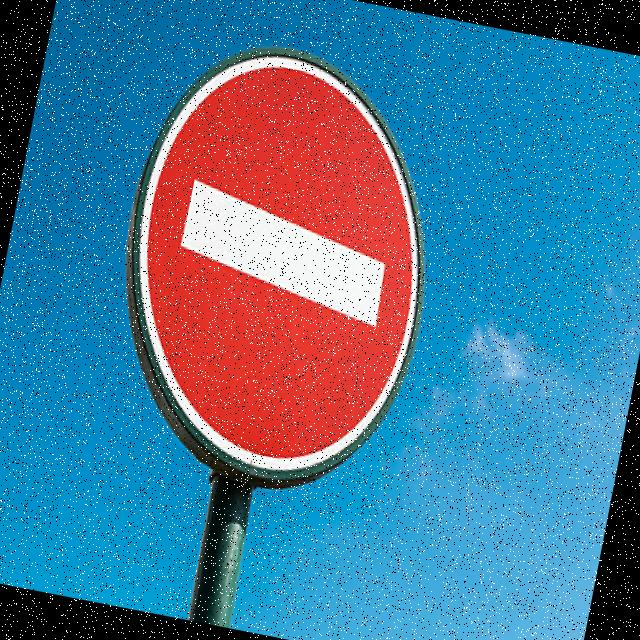do_not_enter: (92, 23, 472, 506)
